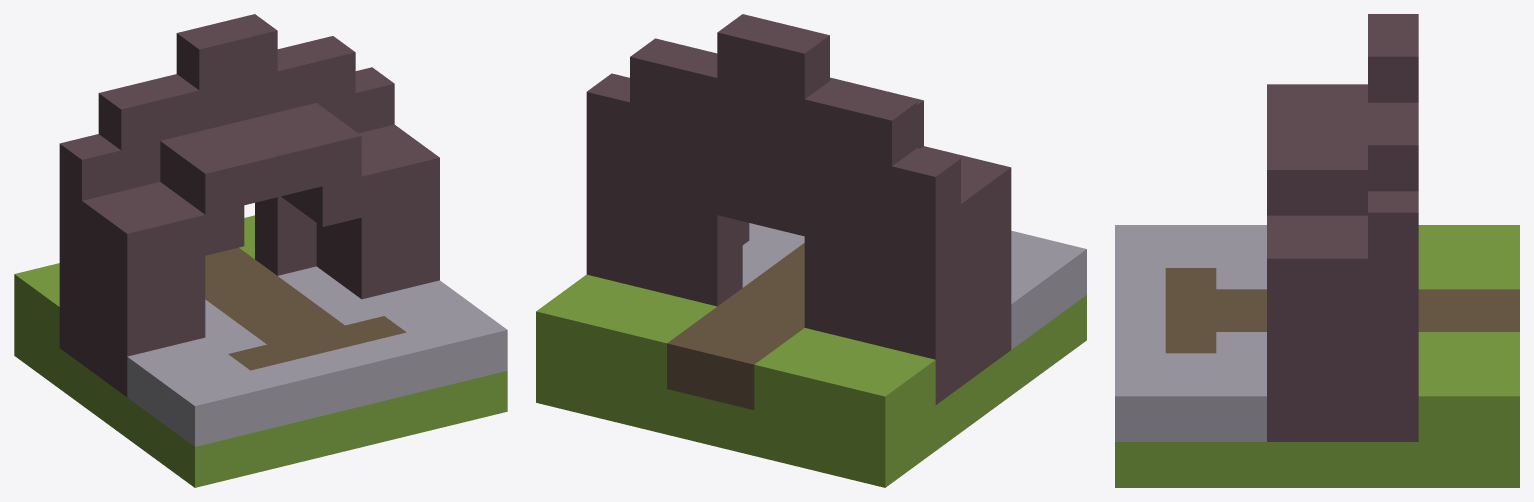
Rendered from wall_gate.obj.
3 views of the same model, side by side, from view 1: azimuth 30°, elevation 25°; view 2: azimuth 150°, elevation 25°; view 3: azimuth 270°, elevation 25° (orthographic). The views are drawn at different scales.
Bounding box in the file's own units: 0.8 × 0.8 × 0.8.
1 material, 1 textured.
